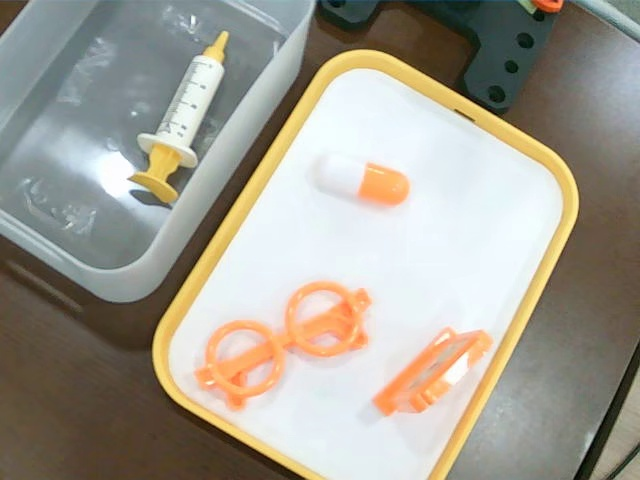pill: (313, 149, 412, 209)
syringe: (127, 30, 231, 205)
